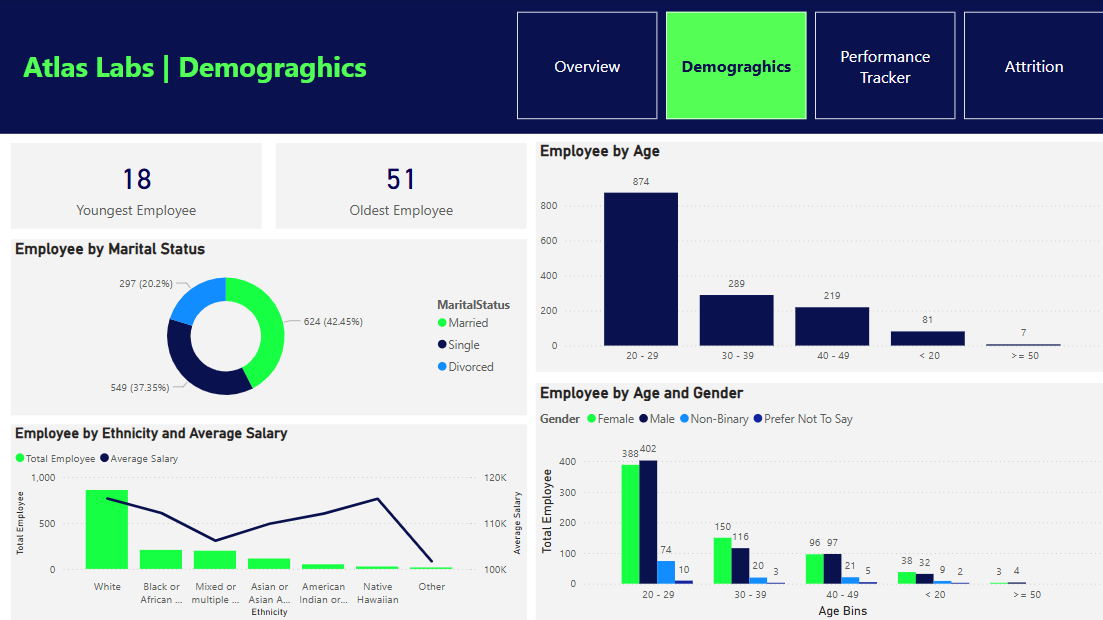

This screenshot's page, from the dashboard's own definition file:
{"tool":"powerbi","page":{"name":"Demograghics","canvas":[1280,720],"ordinal":1},"visuals":[{"type":"shape","box":[0,0,1280,156.7],"z":0},{"type":"pageNavigator","box":[599.6,16.2,680.4,124.4],"z":1000},{"type":"card","fields":{"Values":["Min(Employee.Age)"]},"box":[15.9,167.4,290,99.6],"z":2000},{"type":"card","fields":{"Values":["Max(Employee.Age)"]},"box":[321.7,167.4,290,99.6],"z":3000},{"type":"columnChart","title":"Employee by Age","fields":{"Y":["CountNonNull(Employee.EmployeeID)"],"Category":["Employee.Age Bins"]},"box":[621.8,165.9,657.9,265.5],"z":4000},{"type":"donutChart","title":"Employee by Marital Status","fields":{"Y":["CountNonNull(Employee.EmployeeID)"],"Category":["Employee.MaritalStatus"]},"box":[15.9,278.5,595.9,203.4],"z":5000},{"type":"lineStackedColumnComboChart","title":"Employee by Ethnicity and Average Salary","fields":{"Y":["CountNonNull(Employee.EmployeeID)"],"Y2":["Avg(Employee.Salary)"],"Category":["Employee.Ethnicity"]},"box":[15.9,492,595.9,228],"z":6000},{"type":"clusteredColumnChart","title":"Employee by Age and Gender","fields":{"Category":["Employee.Age Bins"],"Y":["CountNonNull(Employee.EmployeeID)"],"Series":["Employee.Gender"]},"box":[621.8,444.4,657.9,275.6],"z":7000}]}

Visuals, with their boxes in screenshot pixels (x1, y1, x2, y2), scaled from the page's 1280x720 canvas onto the 1103x620 screenshot:
shape: <region>0, 0, 1102, 135</region>
pageNavigator: <region>517, 14, 1102, 121</region>
card - Min(Employee.Age): <region>14, 144, 264, 230</region>
card - Max(Employee.Age): <region>277, 144, 527, 230</region>
"Employee by Age" columnChart: <region>536, 143, 1102, 371</region>
"Employee by Marital Status" donutChart: <region>14, 240, 527, 415</region>
"Employee by Ethnicity and Average Salary" lineStackedColumnComboChart: <region>14, 424, 527, 619</region>
"Employee by Age and Gender" clusteredColumnChart: <region>536, 383, 1102, 619</region>
